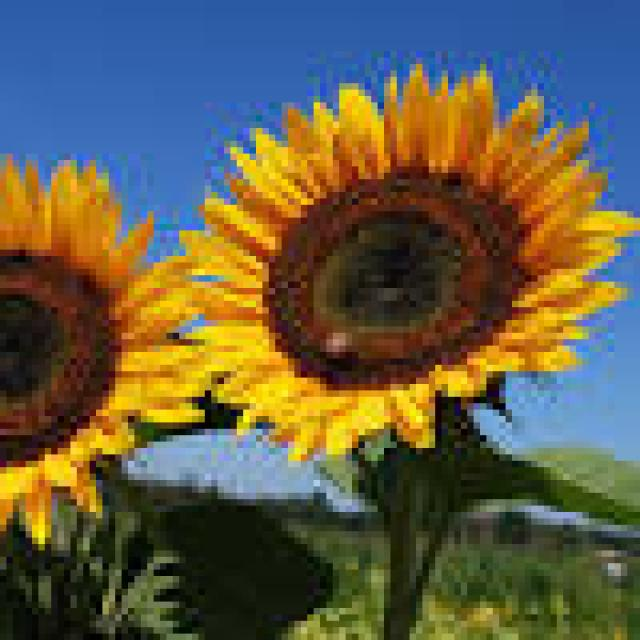sunflower: (145, 52, 640, 483), (0, 125, 233, 564)
